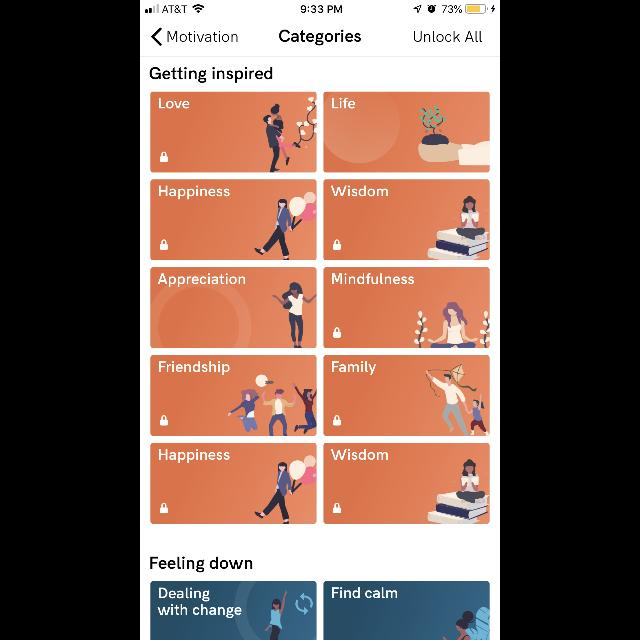icon: (152, 28, 162, 46), (333, 503, 341, 513), (160, 503, 168, 513), (160, 415, 168, 425), (333, 415, 341, 425), (333, 328, 341, 338), (333, 240, 341, 250), (160, 240, 168, 250), (160, 152, 168, 162)
image: (228, 374, 316, 436), (255, 180, 317, 260), (418, 106, 489, 172), (426, 364, 490, 436), (255, 455, 317, 523), (264, 92, 316, 172), (427, 459, 489, 523), (427, 196, 489, 260), (414, 302, 490, 348), (272, 282, 316, 348), (266, 590, 316, 640), (442, 606, 490, 640)
text: (158, 588, 242, 618), (151, 67, 273, 83), (150, 558, 252, 572), (280, 30, 360, 46), (158, 273, 245, 287), (158, 449, 230, 463), (159, 361, 229, 375), (160, 187, 230, 200), (332, 274, 414, 284), (168, 32, 238, 42), (414, 32, 482, 42), (333, 588, 397, 598), (330, 450, 388, 460), (332, 186, 388, 196), (332, 362, 376, 374), (159, 98, 189, 109), (333, 98, 355, 109)
uppertaskbar: (140, 0, 500, 14)
